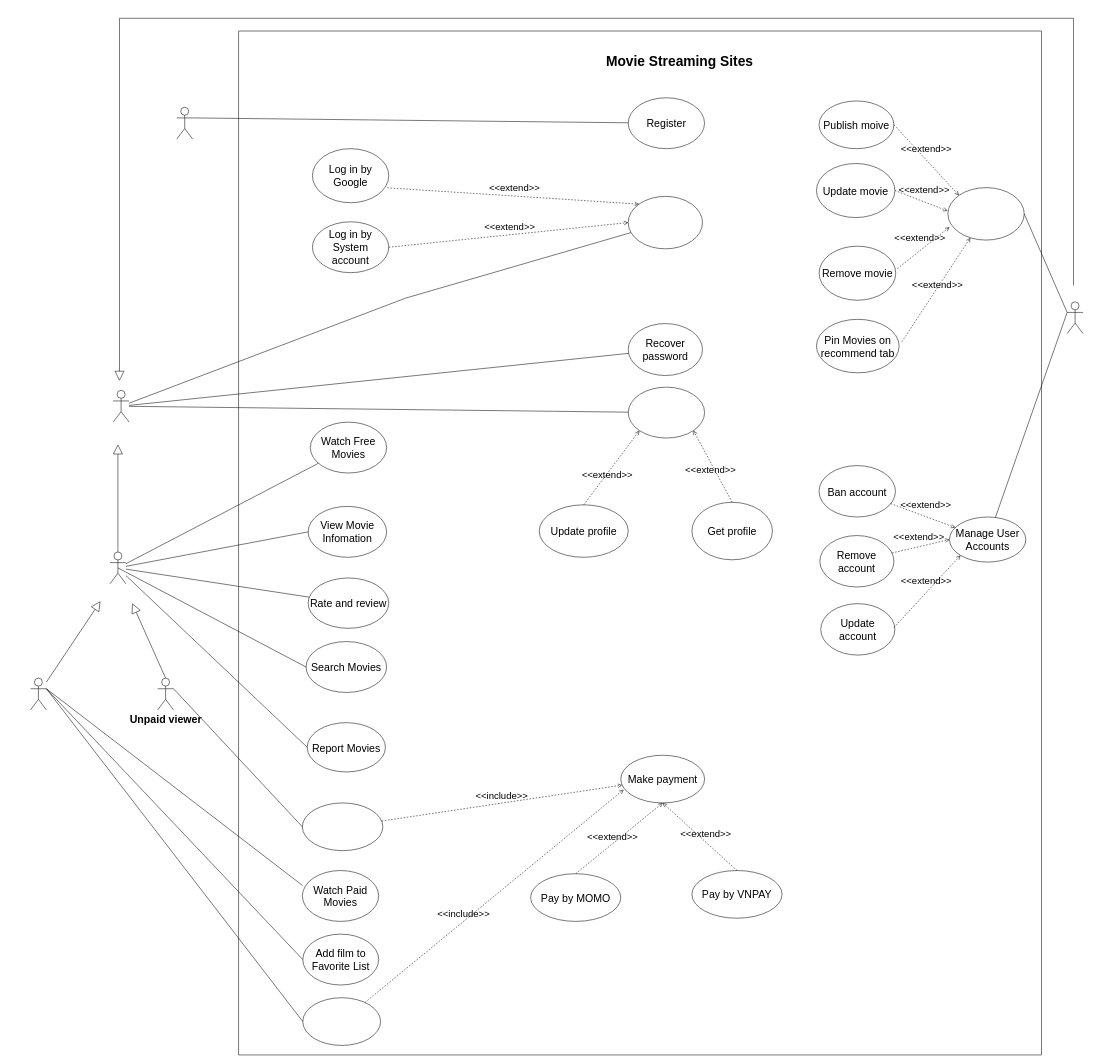
This 1100x1064 diagram has some shape labels left out. Here are the shapes that lost their labels. From the top down, the box of each, then its label:
(176, 107, 193, 139): Guest
(628, 196, 703, 249): Log in
(947, 187, 1024, 240): Manage Movies
(1067, 301, 1083, 334): Admin
(113, 390, 129, 422): Registered User
(628, 387, 705, 438): Manage profile
(109, 551, 126, 584): Viewer
(30, 678, 46, 710): Paid viewer
(302, 802, 383, 851): Active premium account
(302, 997, 381, 1045): Extend premium
